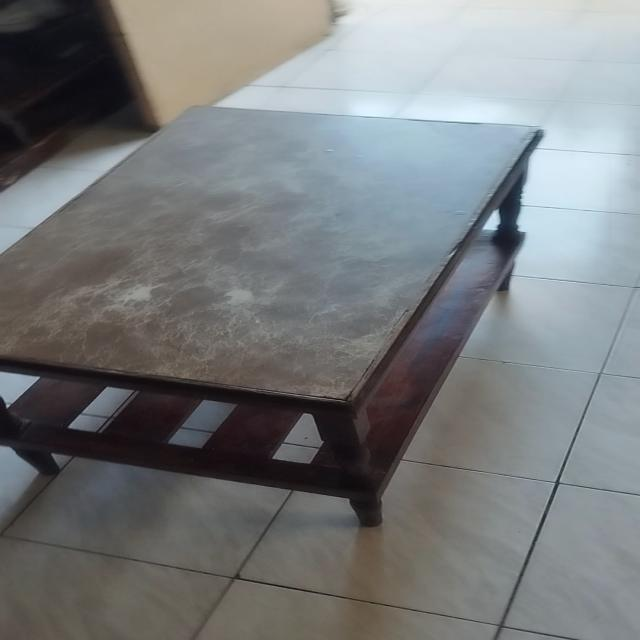table: (0, 101, 541, 536)
